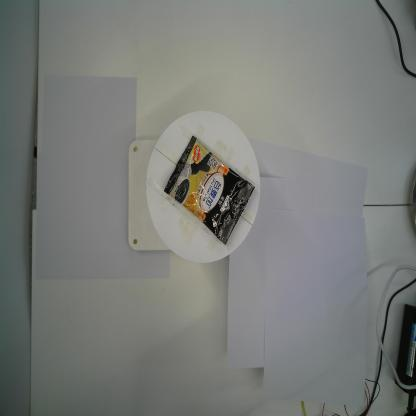Instant Drink: (163, 135, 256, 246)
